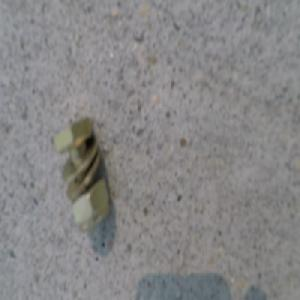BoltNutSet: (53, 115, 109, 226)
